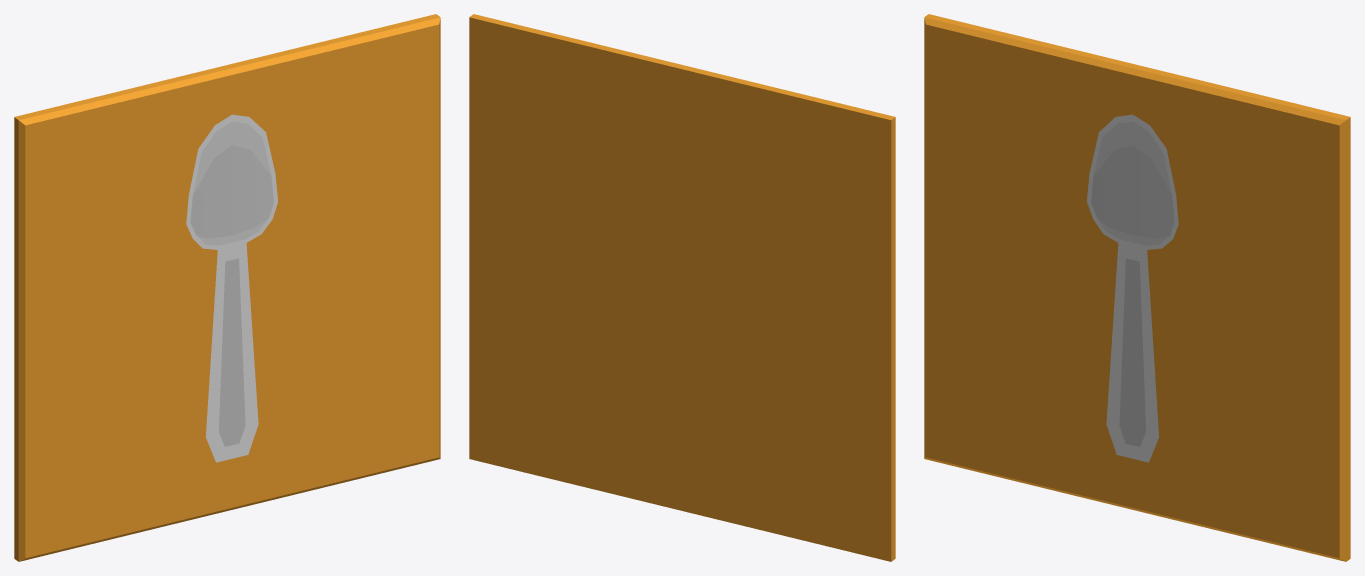
The model's file is Int_KitchenDecoration01_3.fbx.
3 views of the same model, side by side, from view 1: azimuth 30°, elevation 25°; view 2: azimuth 150°, elevation 25°; view 3: azimuth 330°, elevation 25° (orthographic).
Parts seen in each view (by area): view 1: Int_KitchenDecoration01_3; view 2: Int_KitchenDecoration01_3; view 3: Int_KitchenDecoration01_3.
Part boxes in pixels (x1,y1,x2,y2): Int_KitchenDecoration01_3: (14,14,440,561); Int_KitchenDecoration01_3: (469,14,895,561); Int_KitchenDecoration01_3: (924,14,1350,561).
Size of what is drawn, in the model's own units: 87.5 by 2.5 by 87.5.
